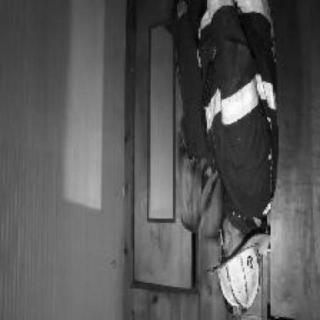other: (78, 105, 96, 192)
